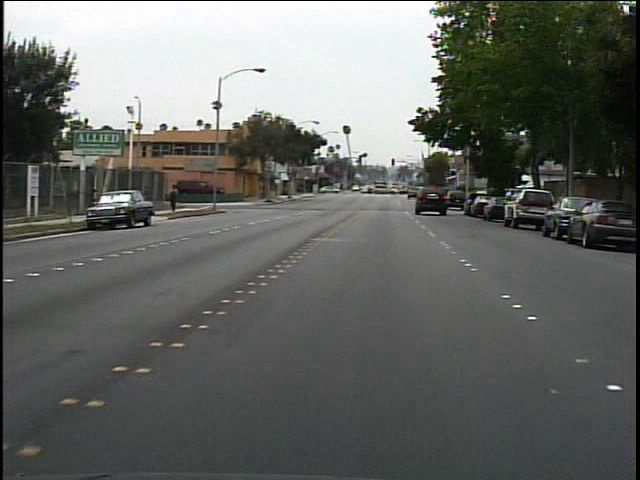person: (169, 181, 187, 217)
